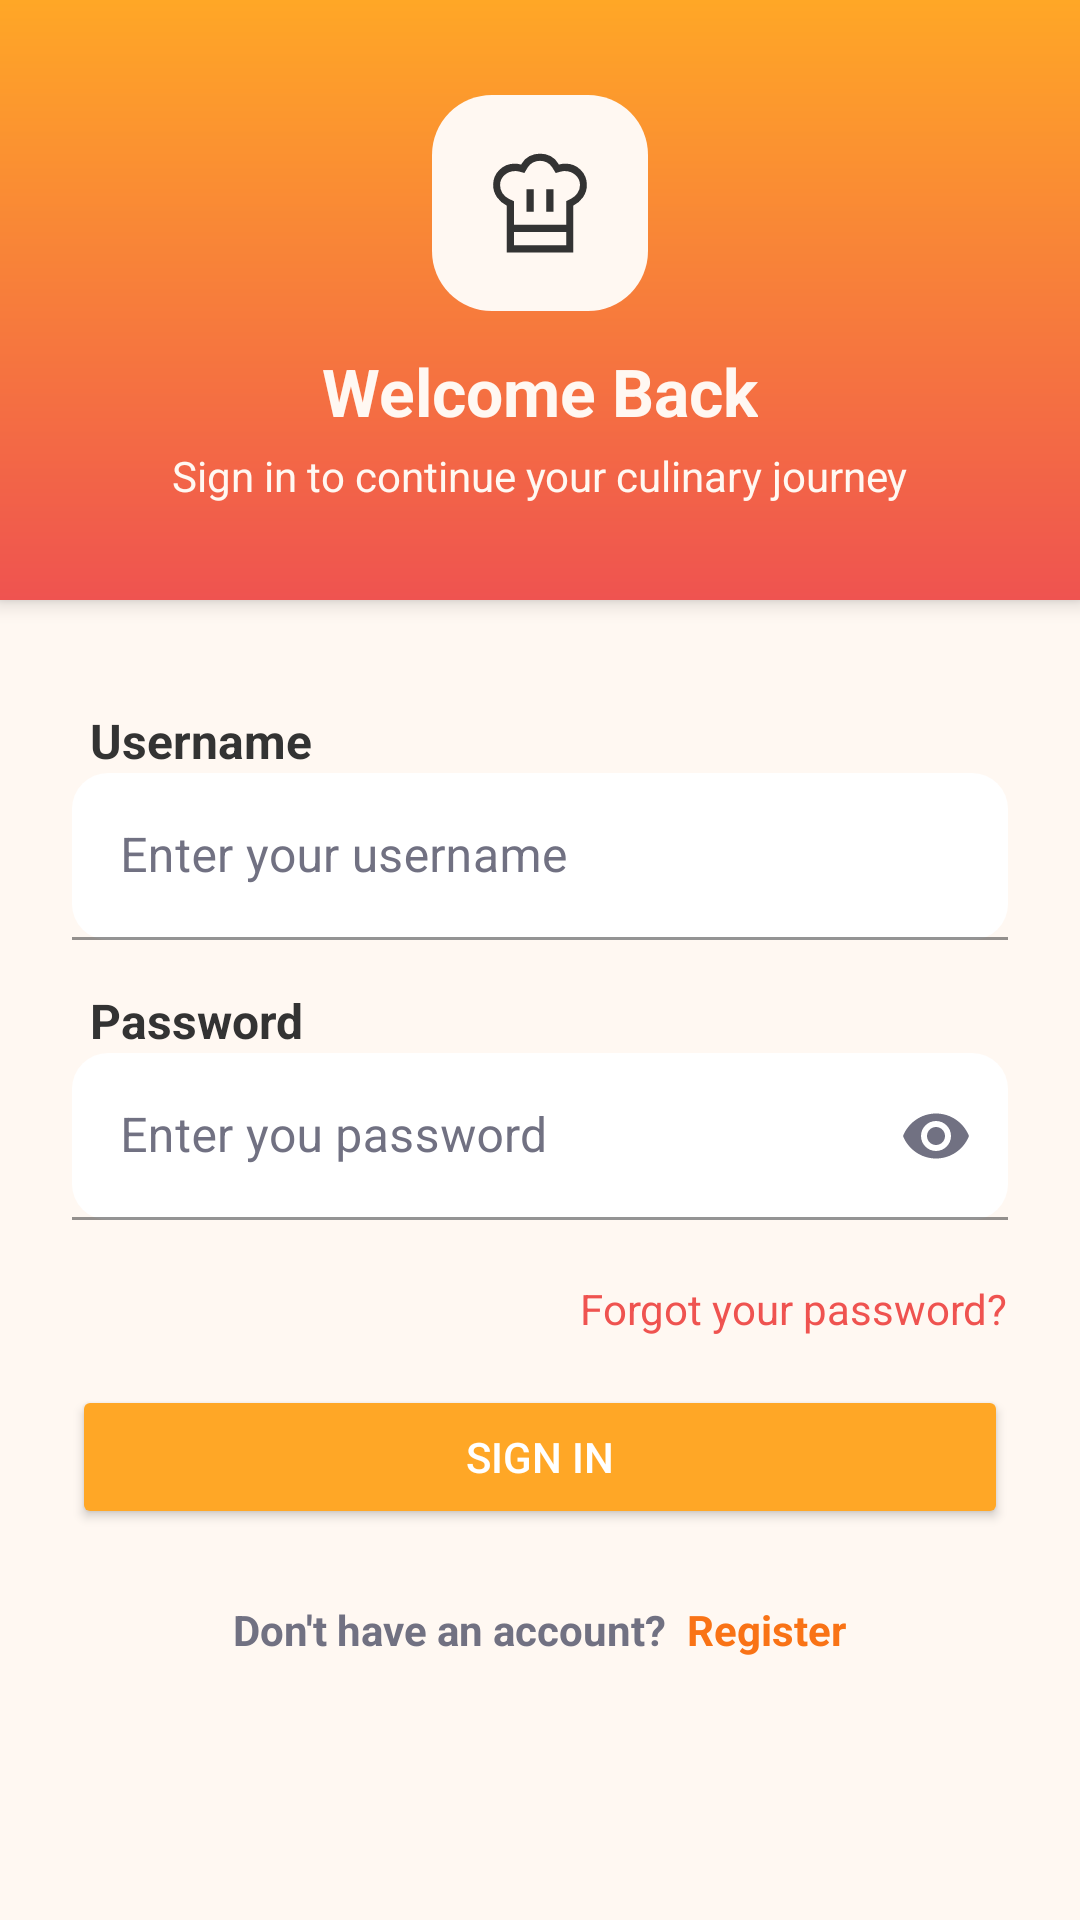

Screen size 1080px×1920px. Icon name, then its box in pixels as (x1, y1, x2, y2):
Chef Hat Icon: (432, 95, 648, 311)
